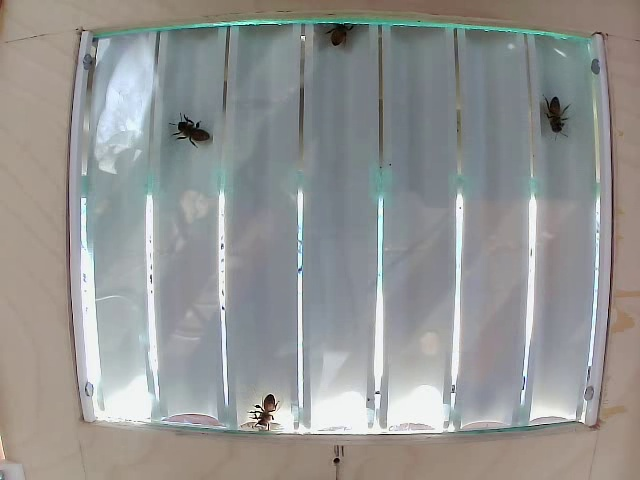bee: (319, 19, 373, 64), (181, 117, 226, 160), (537, 102, 570, 147)
